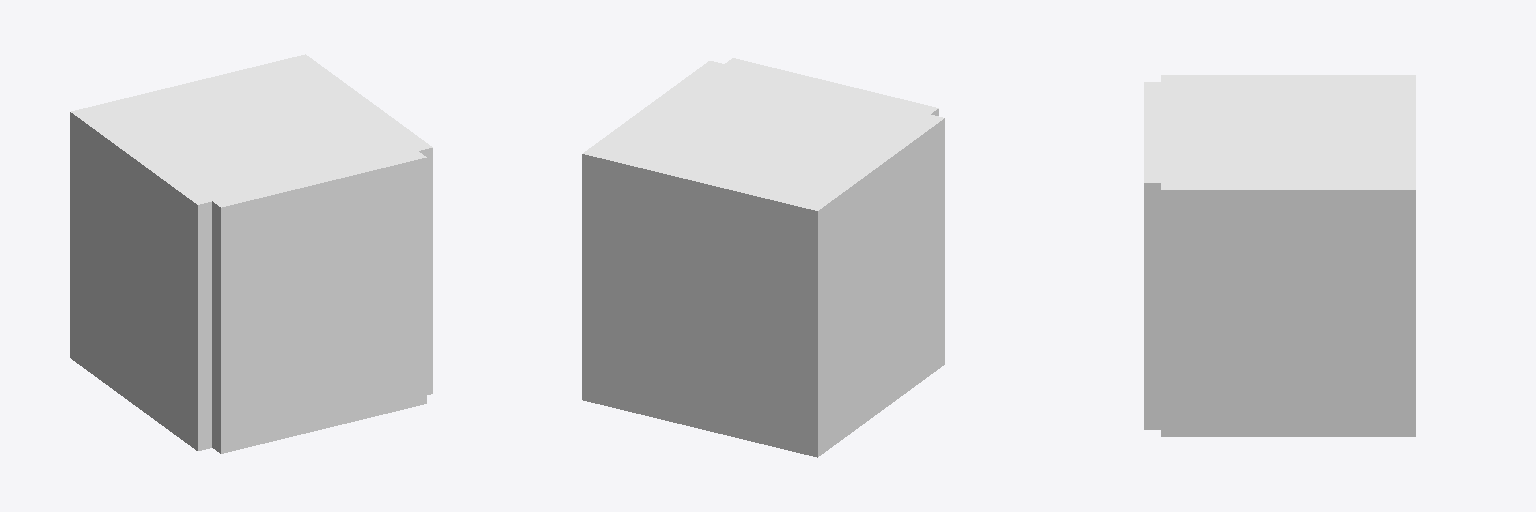
File: Dungeon-14-Wall-Inner3Sides.obj
3 views of the same model, side by side, from view 1: azimuth 30°, elevation 25°; view 2: azimuth 150°, elevation 25°; view 3: azimuth 270°, elevation 25° (orthographic).
Parts seen in each view (by area): view 1: Wall-Inner3Sides; view 2: Wall-Inner3Sides; view 3: Wall-Inner3Sides.
Part boxes in pixels (bbox=[...]): Wall-Inner3Sides: bbox=[70, 54, 432, 453]; Wall-Inner3Sides: bbox=[582, 58, 944, 457]; Wall-Inner3Sides: bbox=[1144, 75, 1415, 436].
Size of the model in its own units: 1.6 by 1.6 by 1.6.